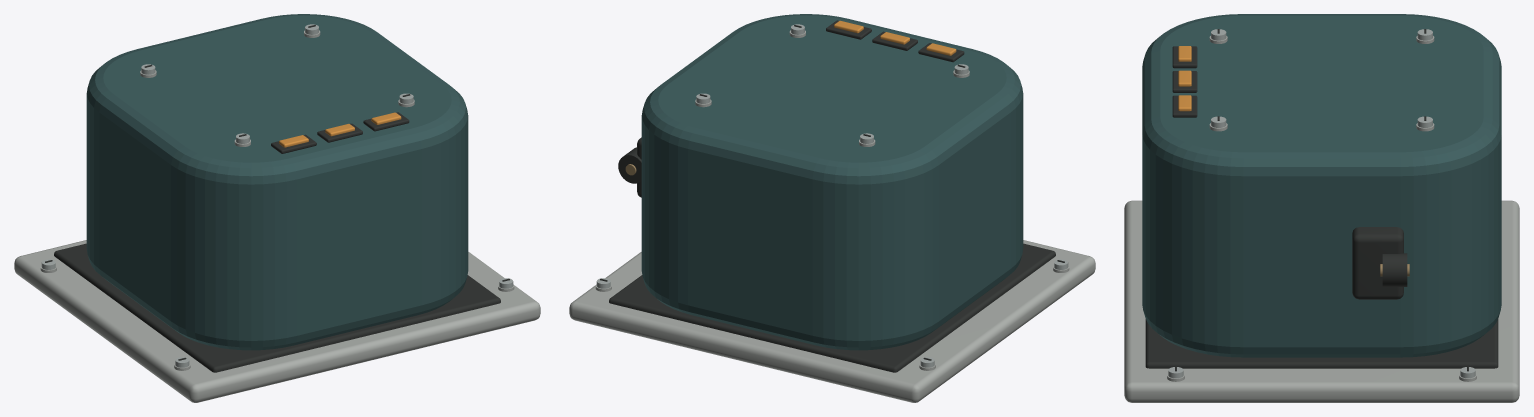
Rendered from moscow-loom-receiver.glb.
3 views of the same model, side by side, from view 1: azimuth 30°, elevation 25°; view 2: azimuth 150°, elevation 25°; view 3: azimuth 270°, elevation 25° (orthographic). The views are drawn at different scales.
Parts seen in each view (by area): view 1: F02 removable shell, Base flange, Isolating seam; view 2: F02 removable shell, Base flange, Isolating seam, Roller; view 3: F02 removable shell, Base flange, Isolating seam, Pusher, Roller, Signal bezel 0, Signal bezel 2, Signal bezel 1.
Part boxes in pixels (<box>): F02 removable shell: <box>86,14,468,350</box>; Base flange: <box>14,240,540,402</box>; Isolating seam: <box>54,243,500,372</box>; F02 removable shell: <box>641,14,1023,350</box>; Base flange: <box>569,240,1095,402</box>; Isolating seam: <box>609,243,1055,372</box>; Roller: <box>618,147,641,183</box>; F02 removable shell: <box>1142,14,1501,357</box>; Base flange: <box>1124,200,1519,402</box>; Isolating seam: <box>1145,319,1498,368</box>; Pusher: <box>1352,227,1403,299</box>; Roller: <box>1382,253,1407,286</box>; Signal bezel 0: <box>1172,46,1197,68</box>; Signal bezel 2: <box>1172,95,1197,117</box>; Signal bezel 1: <box>1172,71,1197,92</box>.
Bounding box in the file's own units: 0.197 × 0.1167 × 0.176.
